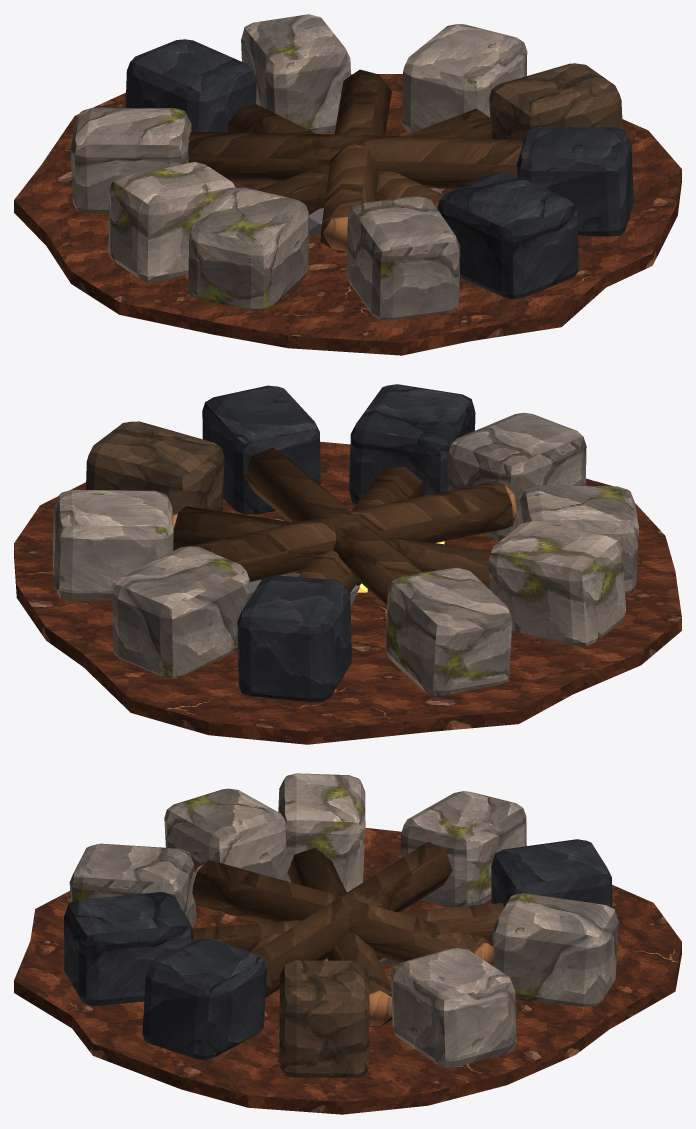
File: campfire.glb
The picture shows the model from 3 angles, top to bottom: view 1: azimuth 30°, elevation 25°; view 2: azimuth 150°, elevation 25°; view 3: azimuth 270°, elevation 25°; orthographic projection. The views are drawn at different scales.
Parts seen in each view (by area): view 1: model; view 2: model; view 3: model.
Boxes of the visible parts, left/top/right/bottom form: model: left=14, top=14, right=681, bottom=355; model: left=14, top=384, right=681, bottom=744; model: left=14, top=773, right=681, bottom=1114.
Size of the model in its own units: 1.19 by 0.1873 by 1.22.
19 materials, 10 textured.
